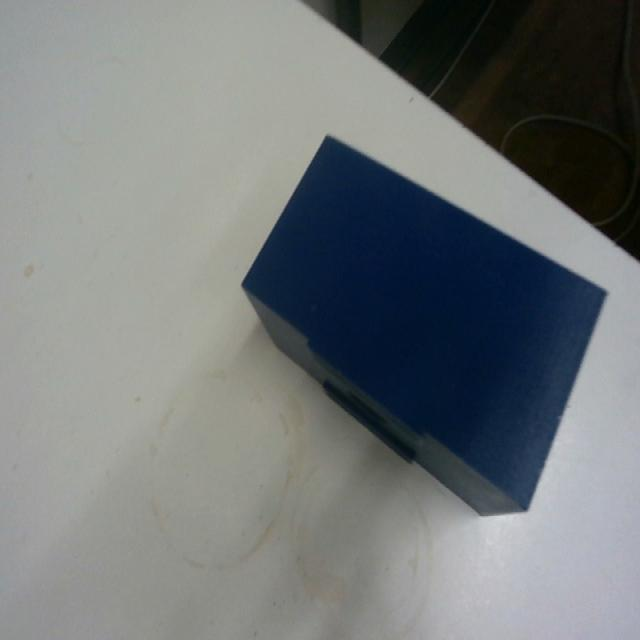Blue Cuboid: (239, 131, 608, 518)
